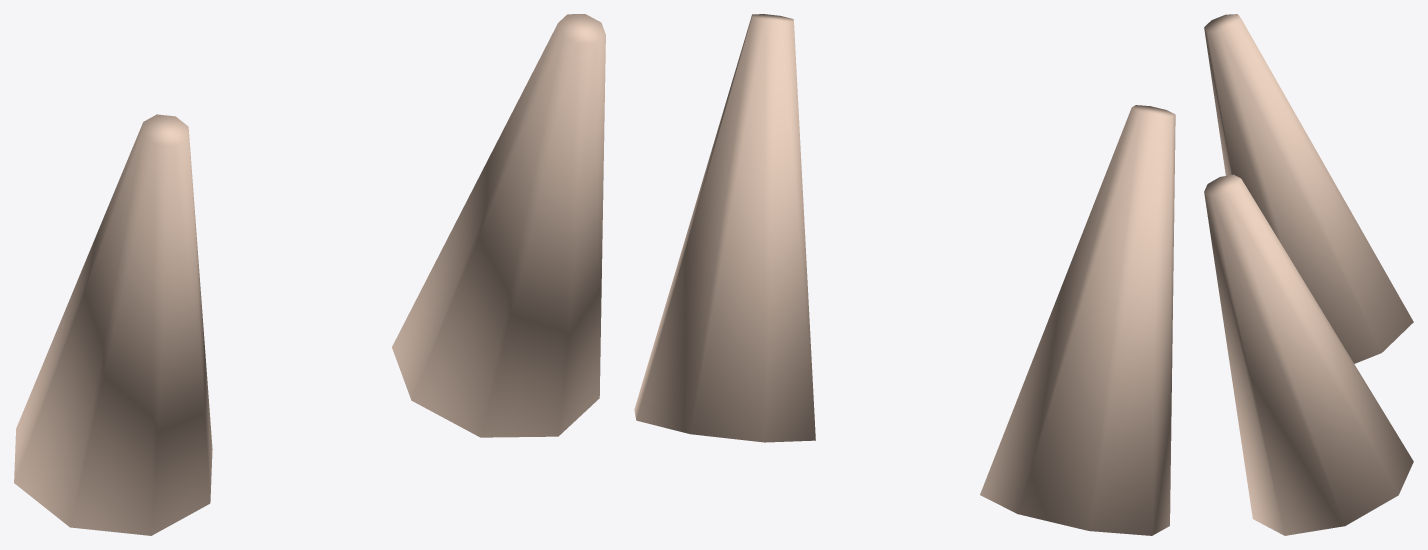
File: half-orc.glb
The picture shows the model from 3 angles, left to right: view 1: azimuth 30°, elevation 25°; view 2: azimuth 150°, elevation 25°; view 3: azimuth 270°, elevation 25°; orthographic projection. The views are drawn at different scales.
Parts seen in each view (by area): view 1: TusksHalfOrc; view 2: TusksHalfOrc; view 3: TusksHalfOrc.
Part boxes in pixels (x1,y1,x2,y2): TusksHalfOrc: (14,14,605,535); TusksHalfOrc: (634,14,1175,535); TusksHalfOrc: (1204,14,1413,535).
Size of the model in its own units: 0.0794 by 0.0573 by 0.0319.
